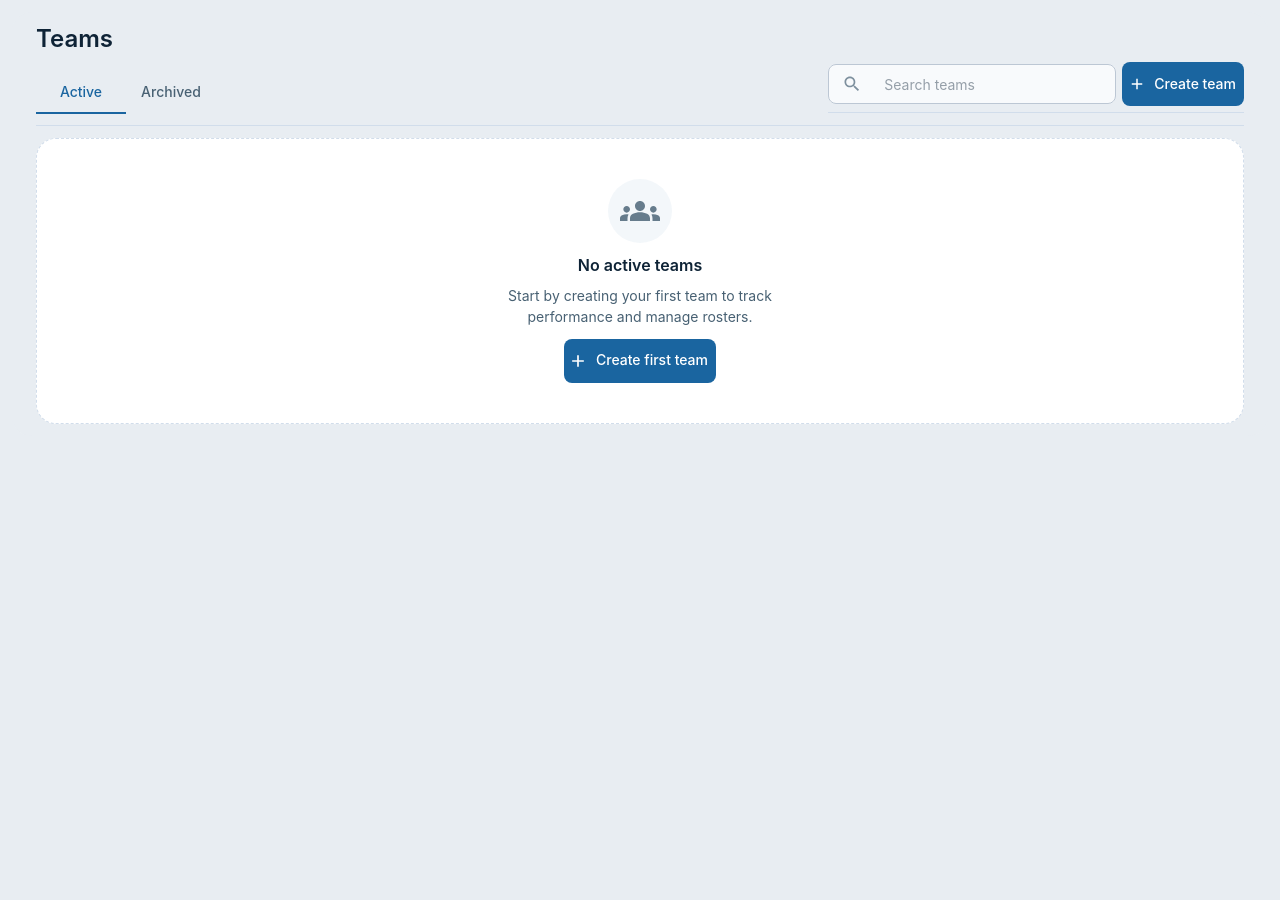
Test: Teams Component › closes the dialog when cancel is clicked
Step 1. Click the button "Create first team" → (640, 361), box [564,339,716,383]
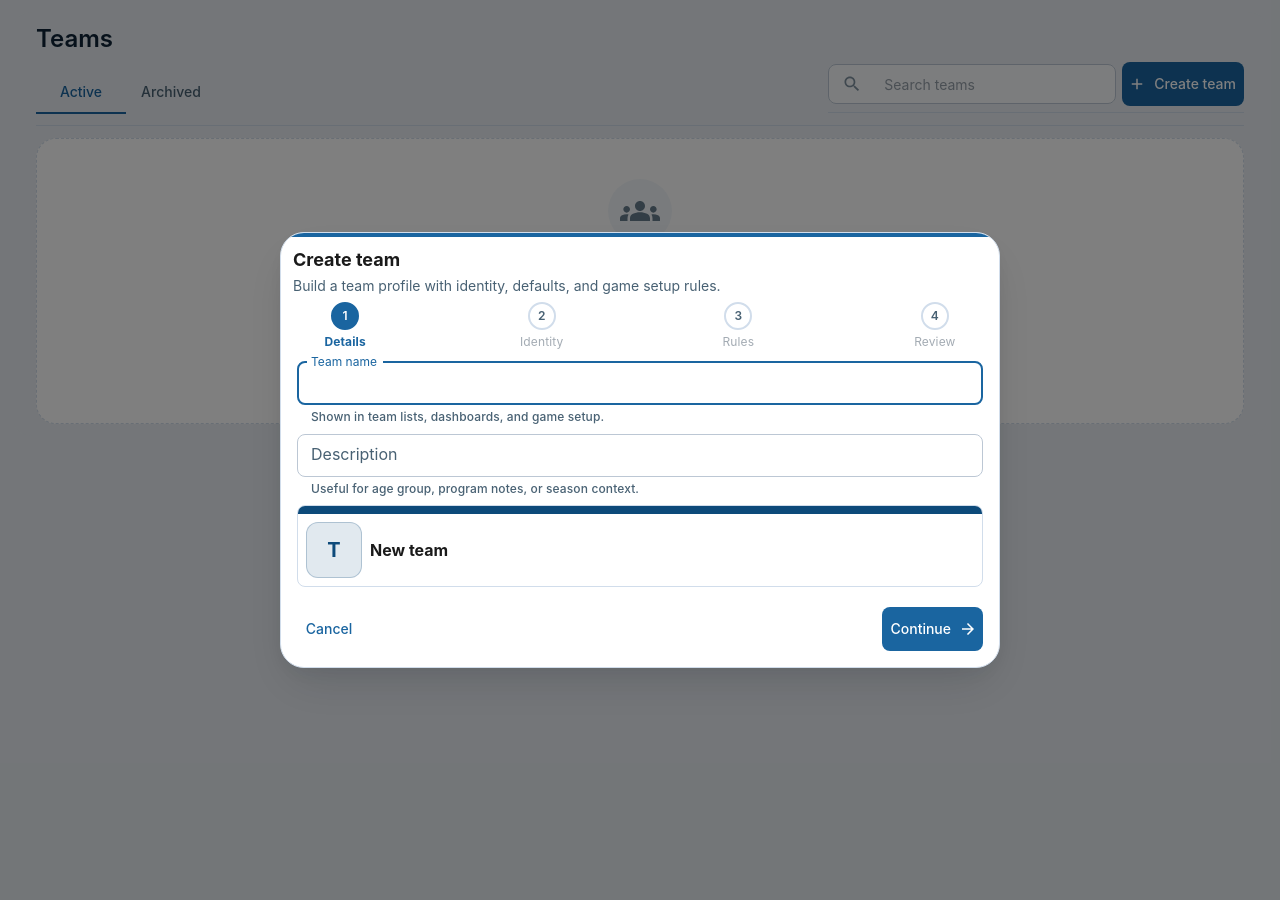
Step 2. Click the button "Cancel" → (329, 629), box [297,607,361,651]
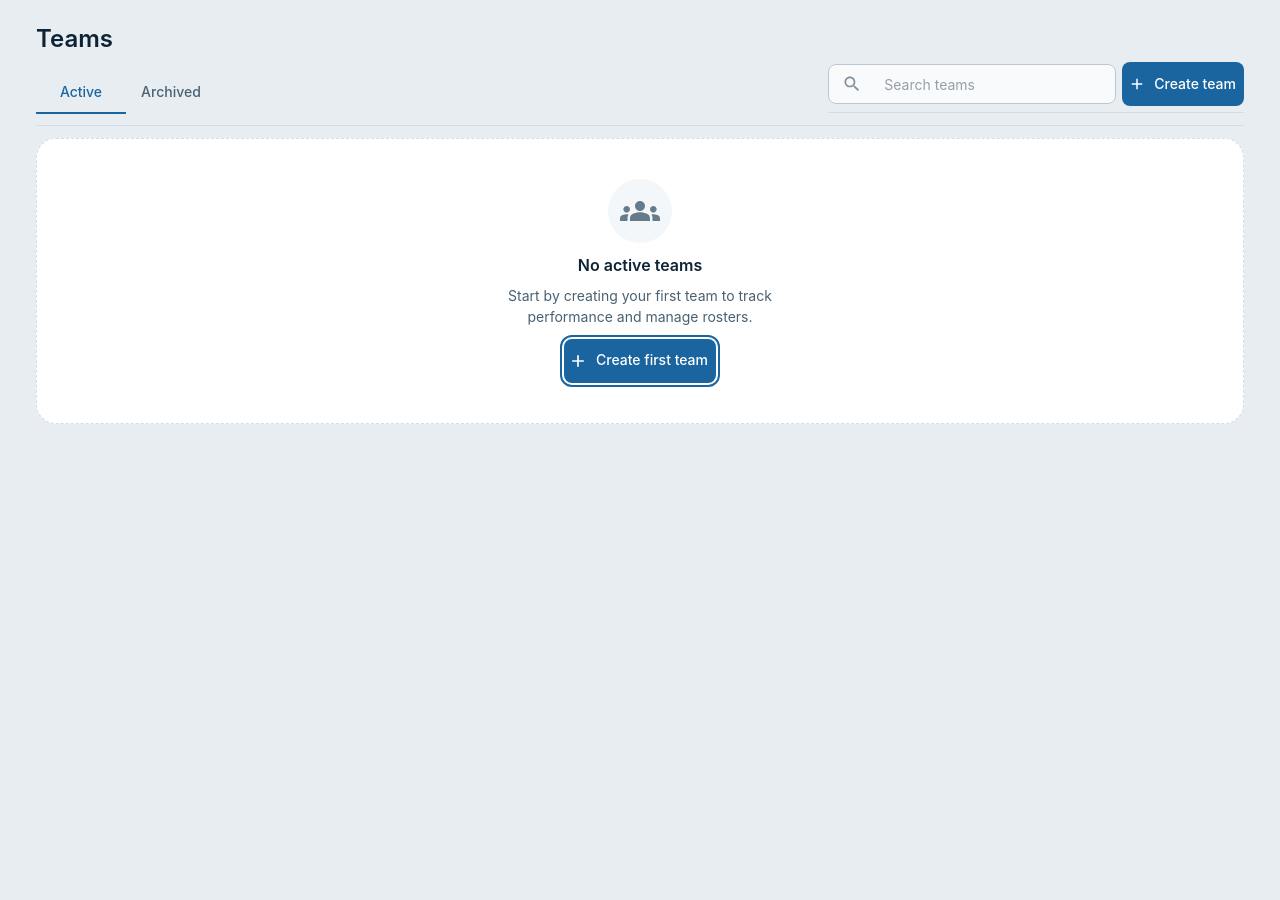
Check: the dialog is gone
